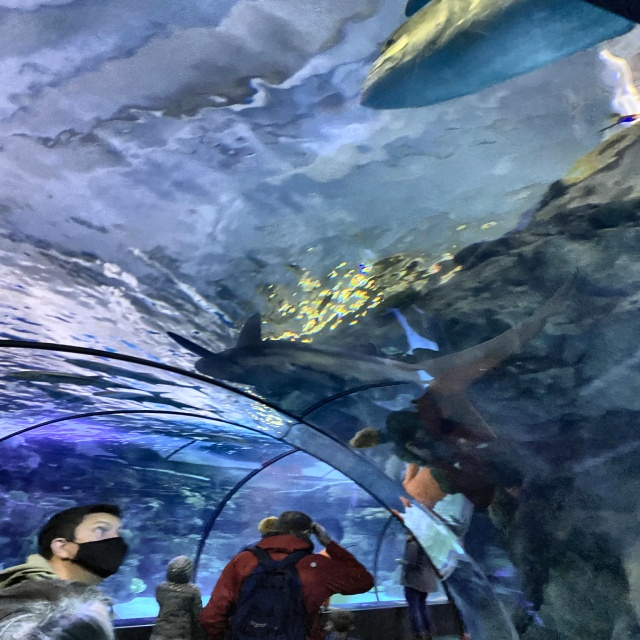shark: (175, 313, 528, 417)
